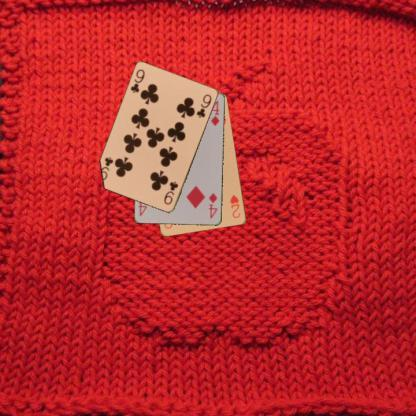2h: (228, 192, 242, 220)
4d: (206, 191, 218, 220)
9c: (128, 66, 146, 95), (161, 179, 180, 206)
